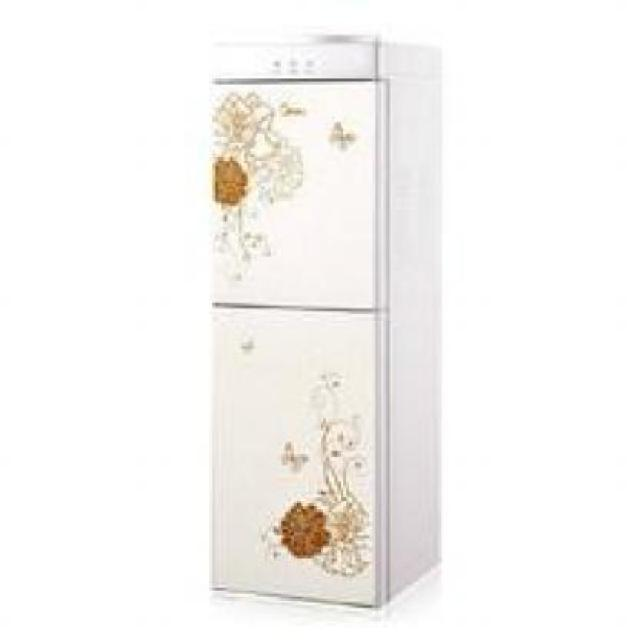cooler: (204, 28, 443, 610)
